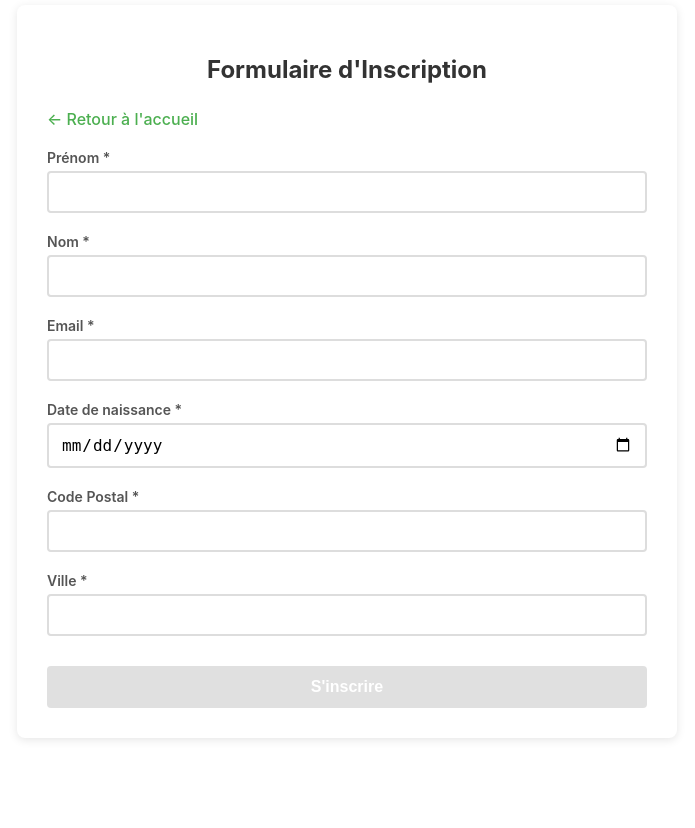
Test case: RegistrationForm - Integration Tests › should display error message when API returns 400 (duplicate email)
Type "John" into the field labelled "Prénom *" at (347, 192), box [47,171,647,213]
Type "Doe" into the field labelled "Nom *" at (347, 276), box [47,255,647,297]
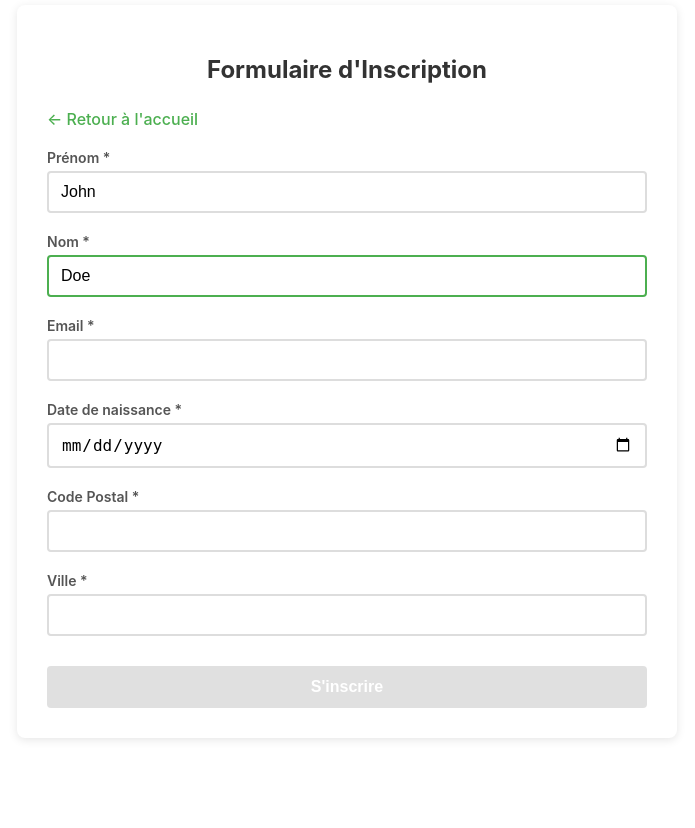
Type "existing@example.com" into the field labelled "Email *" at (347, 360), box [47,339,647,381]
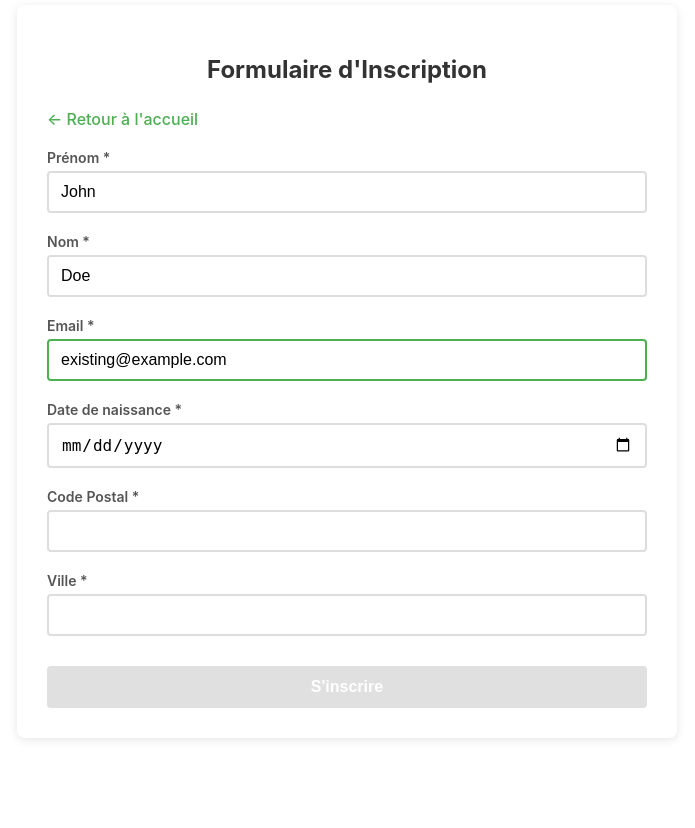
Type "1990-01-01" into the date field labelled "Date de naissance *" at (347, 445), box [47,423,647,468]
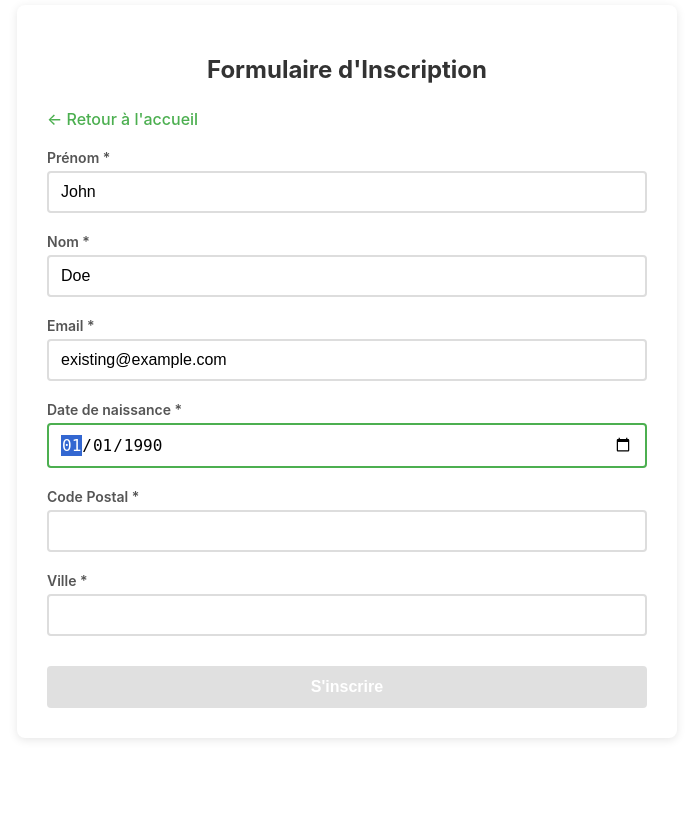
Type "75001" into the field labelled "Code Postal *" at (347, 531), box [47,510,647,552]
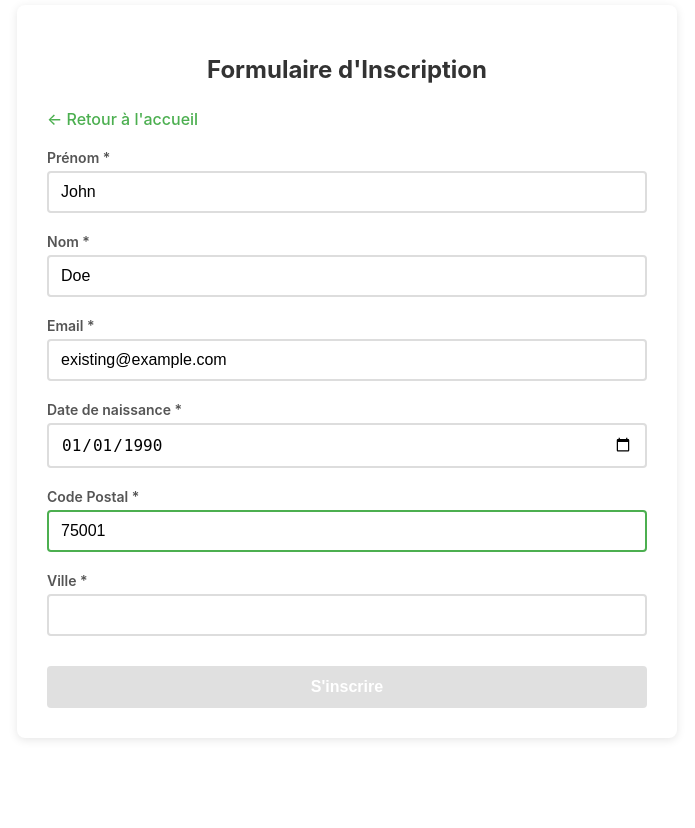
Type "Paris" into the field labelled "Ville *" at (347, 615), box [47,594,647,636]
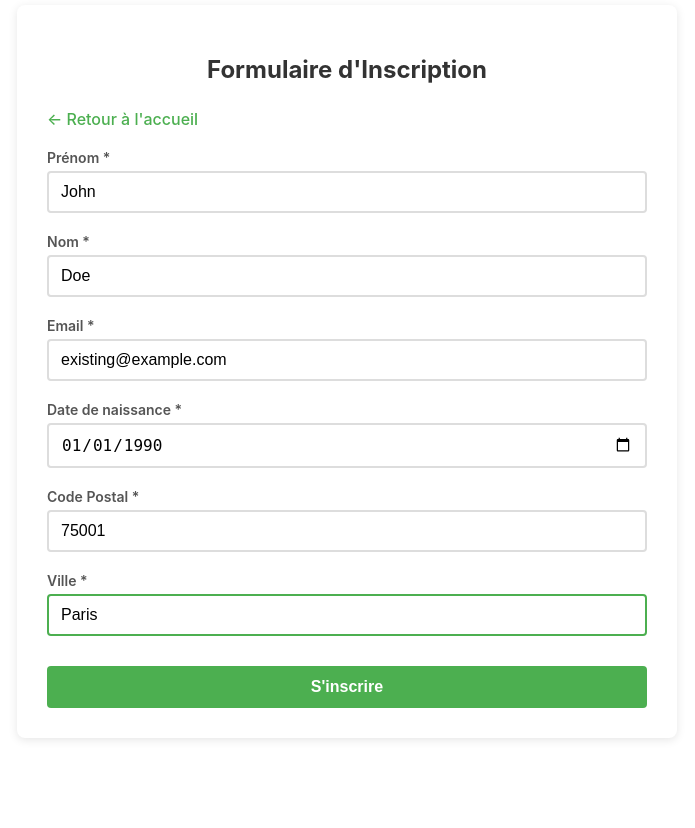
Now the button with test id "submit-button" is enabled
Click the button with test id "submit-button" at (347, 687), box [47,666,647,708]
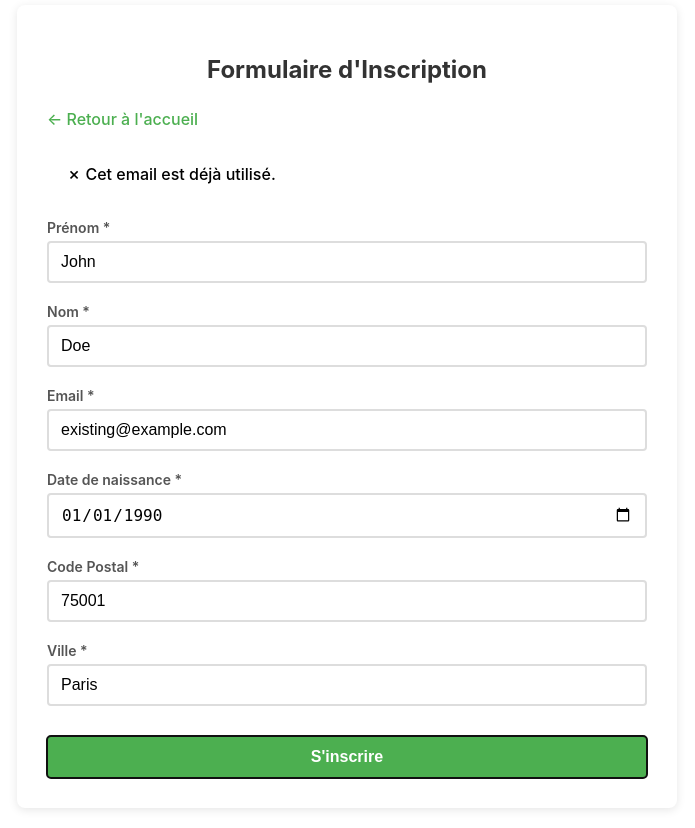
Now the text "✗ Cet email est déjà utilisé." is shown, box [67,164,276,184]
Now the text with test id "api-error-toaster" shows "Cet email est déjà utilisé.", box [85,164,276,184]
